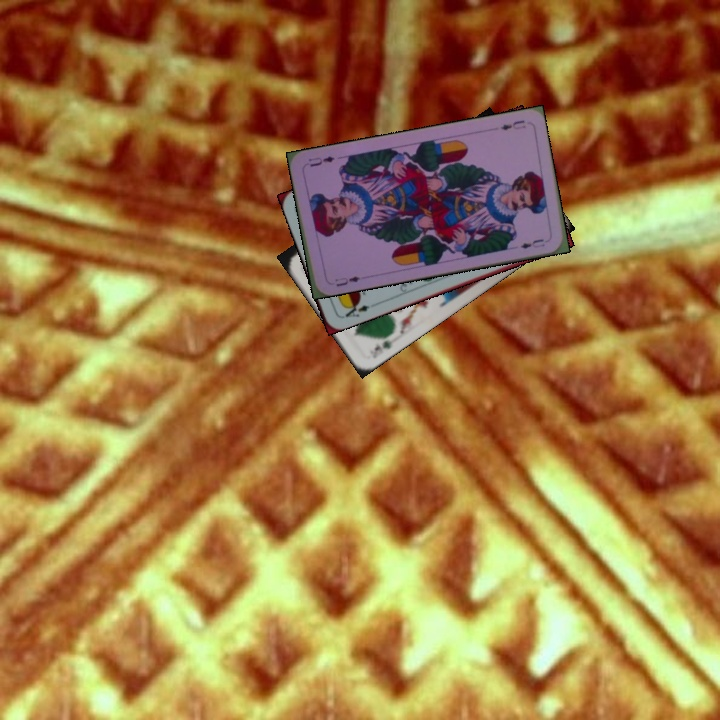EA: (338, 297, 372, 321)
EU: (326, 272, 363, 289), (497, 116, 528, 133)
GK: (365, 336, 395, 361)
